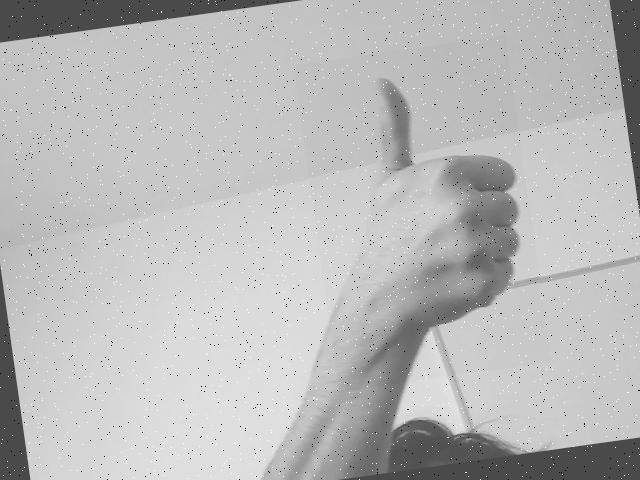good: (329, 55, 522, 384)
